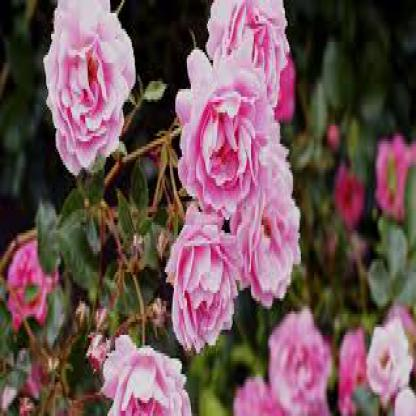Rose-Mawar: (269, 287, 416, 415), (90, 318, 195, 415)
